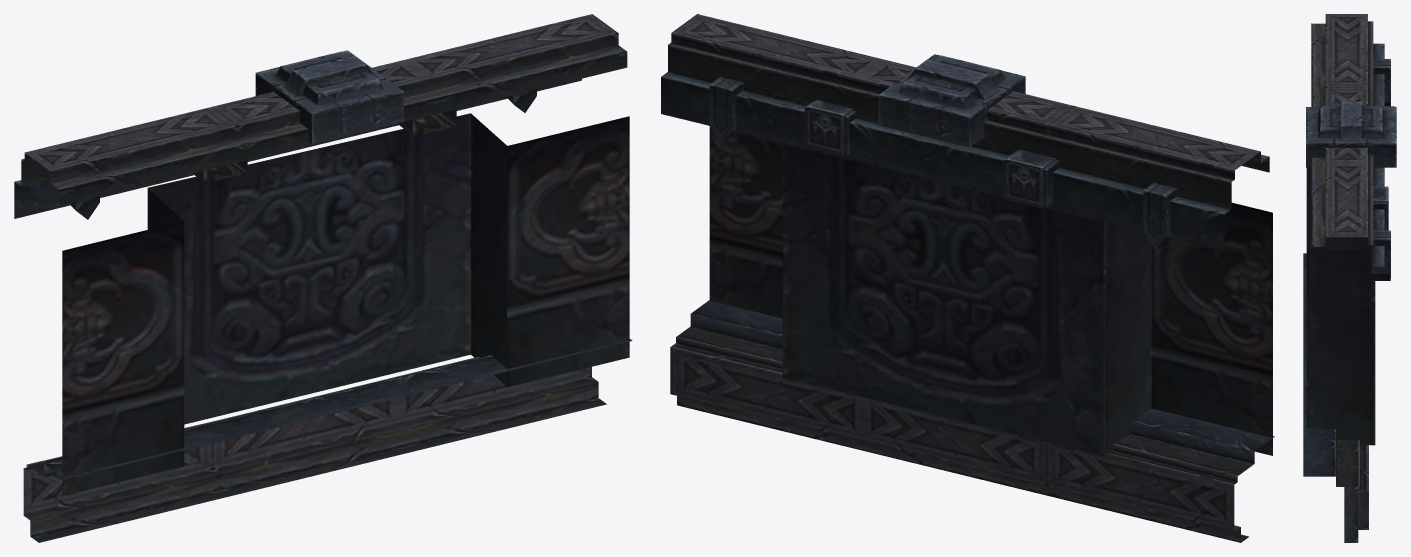
File: milao_xianjieqiao_02.FBX
3 views of the same model, side by side, from view 1: azimuth 30°, elevation 25°; view 2: azimuth 150°, elevation 25°; view 3: azimuth 270°, elevation 25° (orthographic). The views are drawn at different scales.
Parts seen in each view (by area): view 1: milao_xianjieqiao_02; view 2: milao_xianjieqiao_02; view 3: milao_xianjieqiao_02.
Boxes of the visible parts, <box> form: milao_xianjieqiao_02: <box>14,14,632,542</box>; milao_xianjieqiao_02: <box>661,14,1274,542</box>; milao_xianjieqiao_02: <box>1303,14,1396,542</box>.
Size of the model in its own units: 13.32 by 8.95 by 2.36.
1 material, 1 textured.
